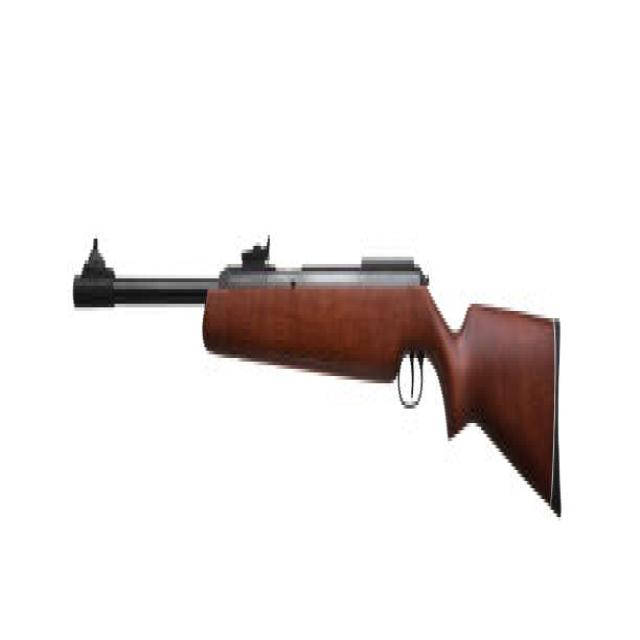rifle: (70, 216, 569, 535)
